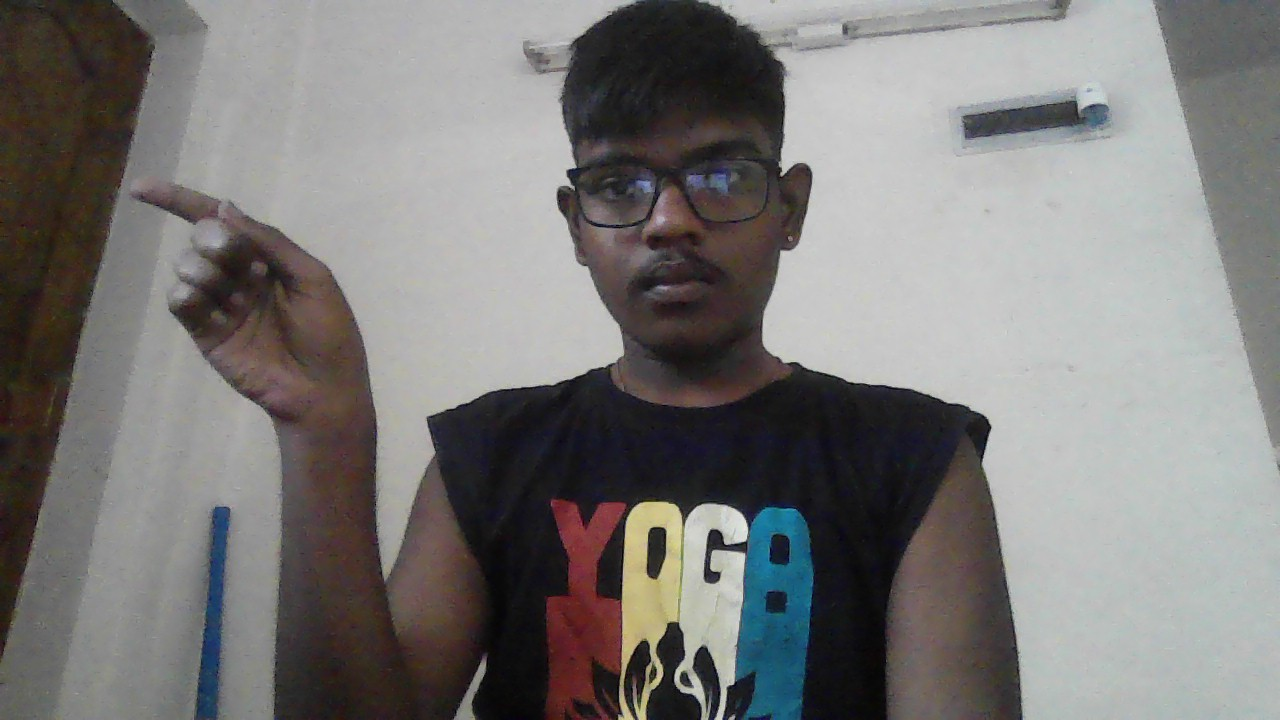G: (125, 176, 369, 434)
